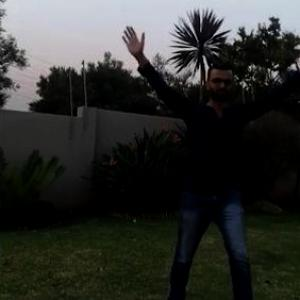takeoff: (121, 29, 299, 299)
